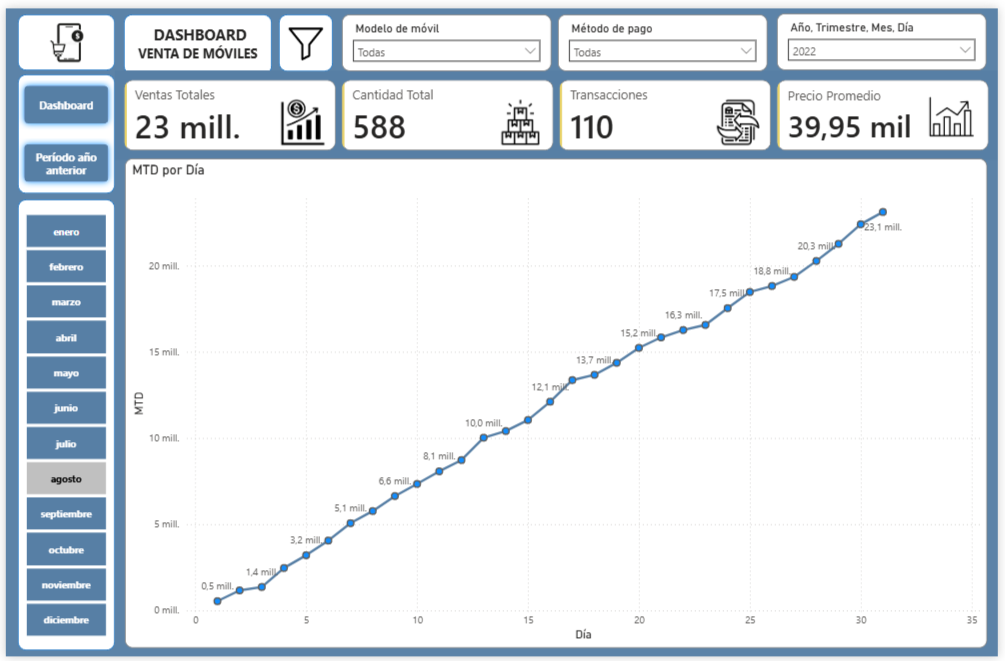

This screenshot's page, from the dashboard's own definition file:
{"tool":"powerbi","page":{"name":"Informe MTD","canvas":[1240,810],"ordinal":1},"visuals":[{"type":"shape","box":[147.5,7.5,185,75],"z":0},{"type":"shape","box":[15.6,7.8,121.2,70],"z":1000},{"type":"shape","box":[15.6,83,121.2,149],"z":2000},{"type":"shape","box":[15.6,238.9,121.2,563.8],"z":3000},{"type":"slicer","fields":{"Values":["Custom_Calendar.Fecha.Variación.Jerarquía de fechas.Mes"]},"box":[0,251.1,148.8,540],"z":4000},{"type":"cardVisual","fields":{"Data":["Sales_Data.Total_Sales","Sales_Data.Total_Quantity","Sales_Data.Transactions","Sales_Data.Average_Price"]},"box":[136.2,77.5,1106.2,112.5],"z":5000},{"type":"slicer","fields":{"Values":["Sales_Data.Mobile Model"]},"box":[420,7.5,262,71.2],"z":6000},{"type":"slicer","fields":{"Values":["Sales_Data.Payment Method"]},"box":[690,7.5,262,71.2],"z":7000},{"type":"slicer","fields":{"Values":["Custom_Calendar.Fecha.Variación.Jerarquía de fechas.Año","Custom_Calendar.Fecha.Variación.Jerarquía de fechas.Trimestre","Custom_Calendar.Fecha.Variación.Jerarquía de fechas.Mes","Custom_Calendar.Fecha.Variación.Jerarquía de fechas.Día"]},"box":[963.8,6.2,262,71.2],"z":8000},{"type":"lineChart","fields":{"Category":["Custom_Calendar.Fecha.Variación.Jerarquía de fechas.Año","Custom_Calendar.Fecha.Variación.Jerarquía de fechas.Trimestre","Custom_Calendar.Fecha.Variación.Jerarquía de fechas.Mes","Custom_Calendar.Fecha.Variación.Jerarquía de fechas.Día"],"Y":["Sales_Data.MTD"]},"box":[148.8,187.5,1077.5,612],"z":9000},{"type":"pageNavigator","box":[15,88.8,121.2,137.5],"z":10000},{"type":"image","box":[43.8,1.2,65,83],"z":11000},{"type":"textbox","box":[155,15,170,58.8],"z":12000},{"type":"shape","box":[341.2,7.5,67.5,71.2],"z":13000},{"type":"image","box":[352.5,22.5,45,43.8],"z":14000}]}

Visuals, with their boxes in screenshot pixels (x1, y1, x2, y2), scaled from the page's 1240x810 canvas onto the 1005x661 screenshot:
shape: bbox(120, 6, 269, 67)
shape: bbox(13, 6, 111, 63)
shape: bbox(13, 68, 111, 189)
shape: bbox(13, 195, 111, 655)
slicer - Custom_Calendar.Fecha.Variación.Jerarquía de fechas.Mes: bbox(0, 205, 121, 646)
cardVisual - Sales_Data.Total_Sales x Sales_Data.Total_Quantity: bbox(110, 63, 1004, 155)
slicer - Sales_Data.Mobile Model: bbox(340, 6, 553, 64)
slicer - Sales_Data.Payment Method: bbox(559, 6, 772, 64)
slicer - Custom_Calendar.Fecha.Variación.Jerarquía de fechas.Año x Custom_Calendar.Fecha.Variación.Jerarquía de fechas.Trimestre: bbox(781, 5, 993, 63)
lineChart - Custom_Calendar.Fecha.Variación.Jerarquía de fechas.Año x Custom_Calendar.Fecha.Variación.Jerarquía de fechas.Trimestre: bbox(121, 153, 994, 652)
pageNavigator: bbox(12, 72, 110, 185)
image: bbox(35, 1, 88, 69)
textbox: bbox(126, 12, 263, 60)
shape: bbox(277, 6, 331, 64)
image: bbox(286, 18, 322, 54)
